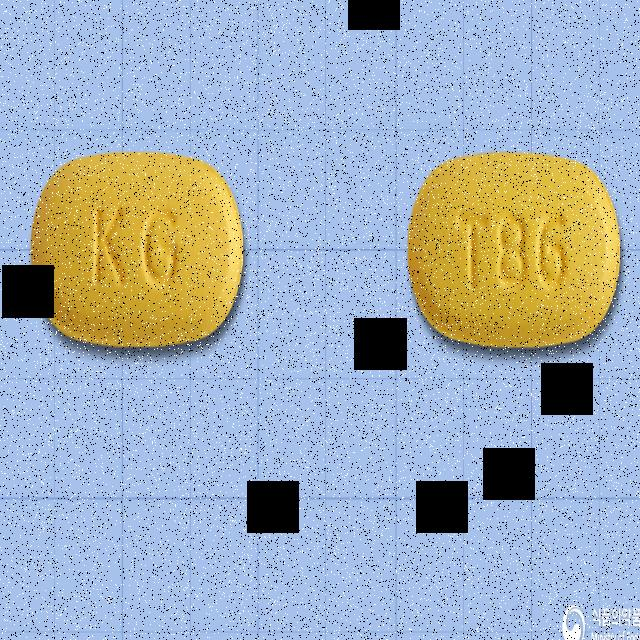Clarin: (406, 145, 624, 357), (27, 147, 248, 356)
